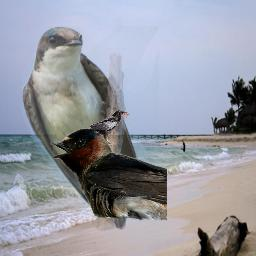Crow: (78, 109, 133, 146)
Swallow: (22, 26, 159, 232), (49, 128, 167, 221)
